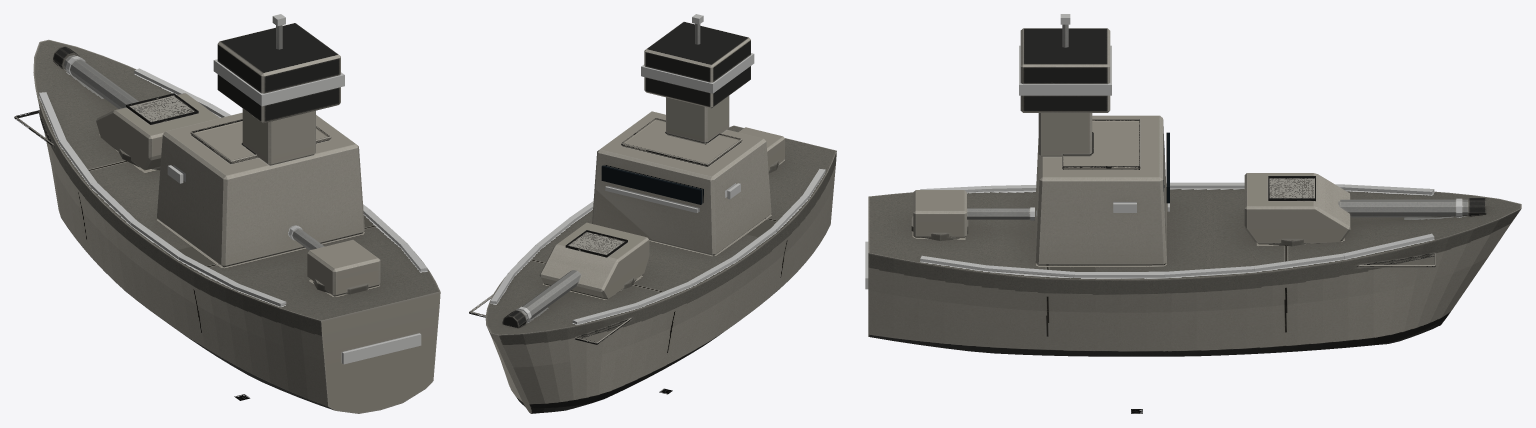
The model's file is ord_sentry.fbx.
3 views of the same model, side by side, from view 1: azimuth 30°, elevation 25°; view 2: azimuth 150°, elevation 25°; view 3: azimuth 270°, elevation 25° (orthographic). The views are drawn at different scales.
Visible parts, largest first — view 1: base_bar, radar_bar, turret1_bar, base_glow_running_bar, turret2_bar, radar_glow_running_bar; view 2: base_bar, turret1_bar, radar_bar, base_glow_running_bar, radar_glow_running_bar, turret2_bar; view 3: base_bar, turret1_bar, radar_bar, base_glow_running_bar, turret2_bar, radar_glow_running_bar.
Part boxes in pixels (bbox=[...]): base_bar: bbox=[14, 25, 440, 413]; radar_bar: bbox=[217, 23, 340, 123]; turret1_bar: bbox=[53, 46, 219, 170]; base_glow_running_bar: bbox=[39, 14, 427, 364]; turret2_bar: bbox=[292, 228, 380, 296]; radar_glow_running_bar: bbox=[213, 59, 344, 106]; base_bar: bbox=[469, 23, 836, 413]; turret1_bar: bbox=[502, 222, 649, 328]; radar_bar: bbox=[644, 21, 750, 108]; base_glow_running_bar: bbox=[490, 14, 825, 324]; radar_glow_running_bar: bbox=[641, 53, 754, 93]; turret2_bar: bbox=[738, 127, 784, 173]; base_bar: bbox=[868, 24, 1521, 356]; turret1_bar: bbox=[1244, 173, 1486, 246]; radar_bar: bbox=[1020, 28, 1110, 112]; base_glow_running_bar: bbox=[865, 14, 1434, 289]; turret2_bar: bbox=[911, 190, 1030, 240]; radar_glow_running_bar: bbox=[1019, 45, 1111, 95].
Size of the model in its own units: 374 by 731 by 1100.
2 materials, 2 textured.
